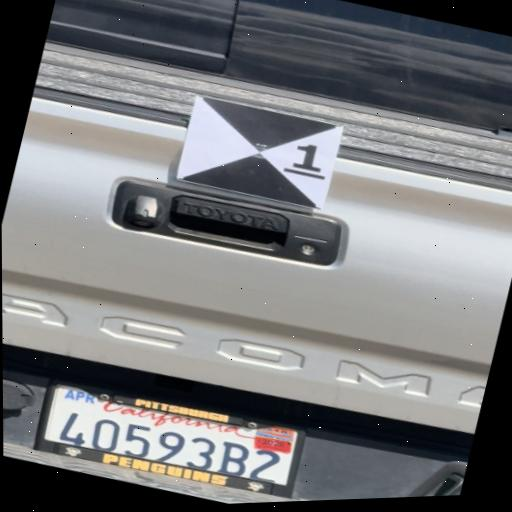target1: (177, 90, 343, 215)
